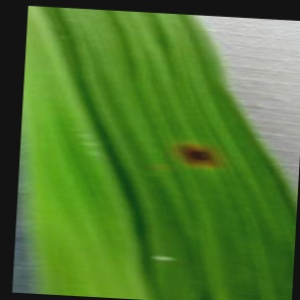Bacterial_Leaf_Blight: (169, 128, 230, 182), (145, 245, 183, 270)
